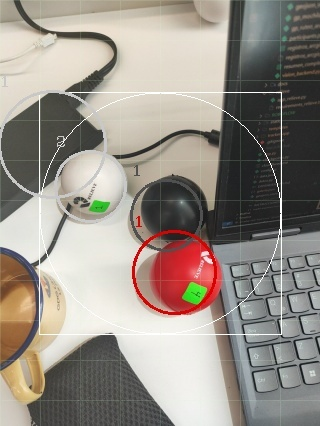Pelota blanca: (28, 331, 173, 425), (0, 89, 105, 198), (0, 246, 41, 387), (55, 148, 129, 224), (0, 196, 62, 264), (0, 350, 46, 403), (191, 0, 230, 25), (0, 398, 33, 425)
Pelota negra: (127, 174, 206, 243)
Pelota roja: (129, 230, 222, 315)
